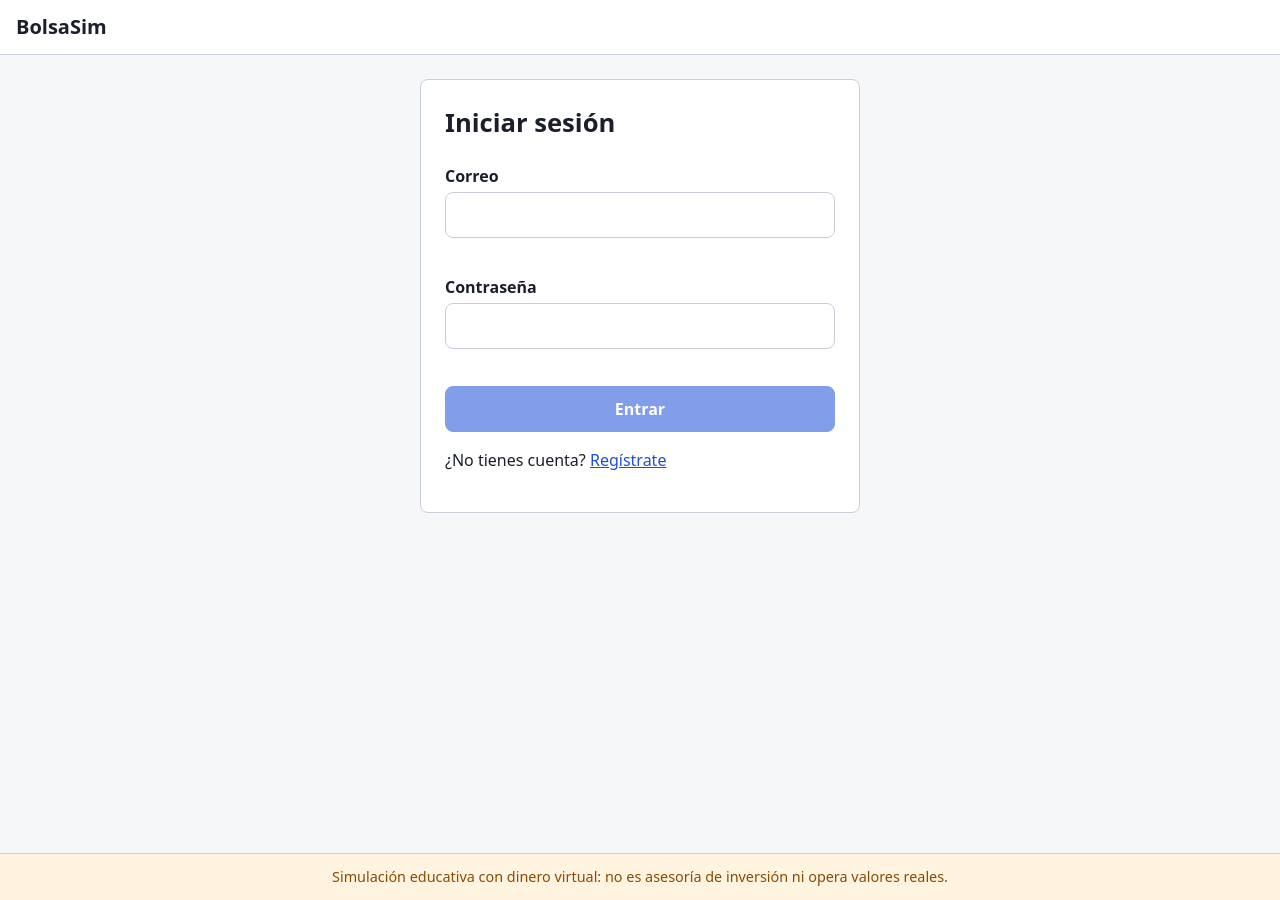
Test: Iniciar sesión (HU-02) › con credenciales incorrectas dice "Correo o contraseña incorrectos" y borra la contraseña
In the field labelled "Correo": point(640, 215) [445,192,835,238], type "ana@correo.co"
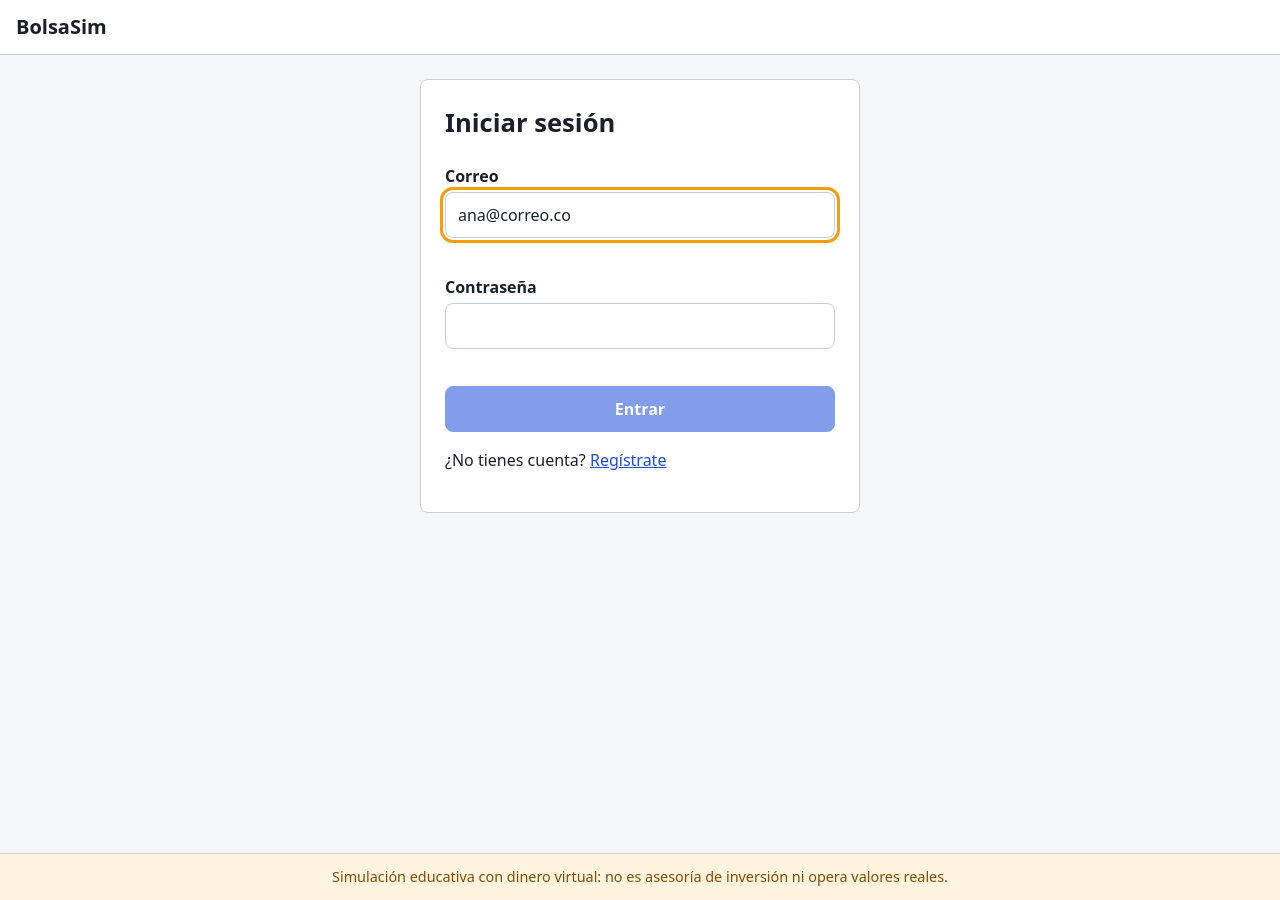
In the password field labelled "Contraseña": point(640, 326) [445,303,835,349], type "equivocada"
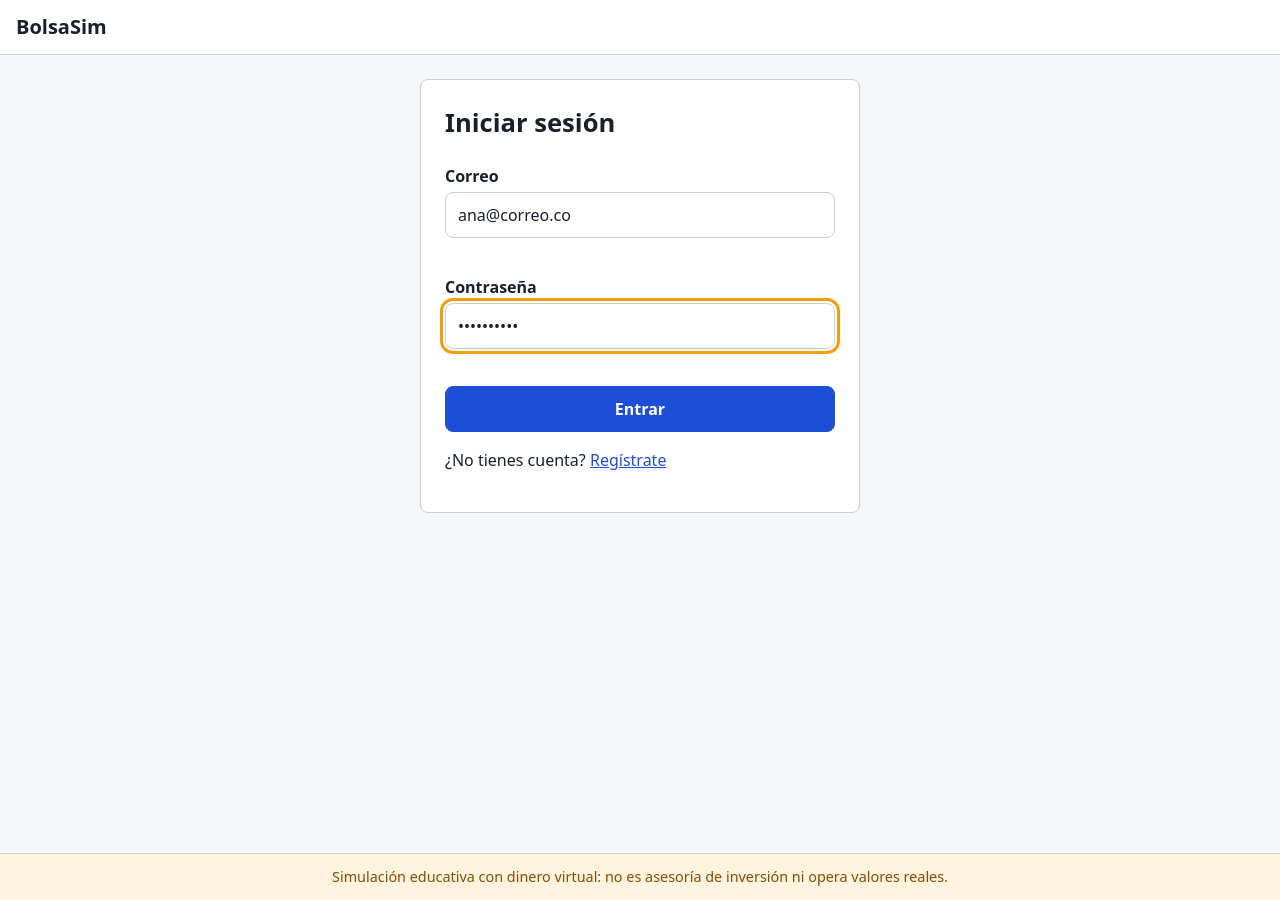
Click the button "Entrar": point(640, 409) [445,386,835,432]
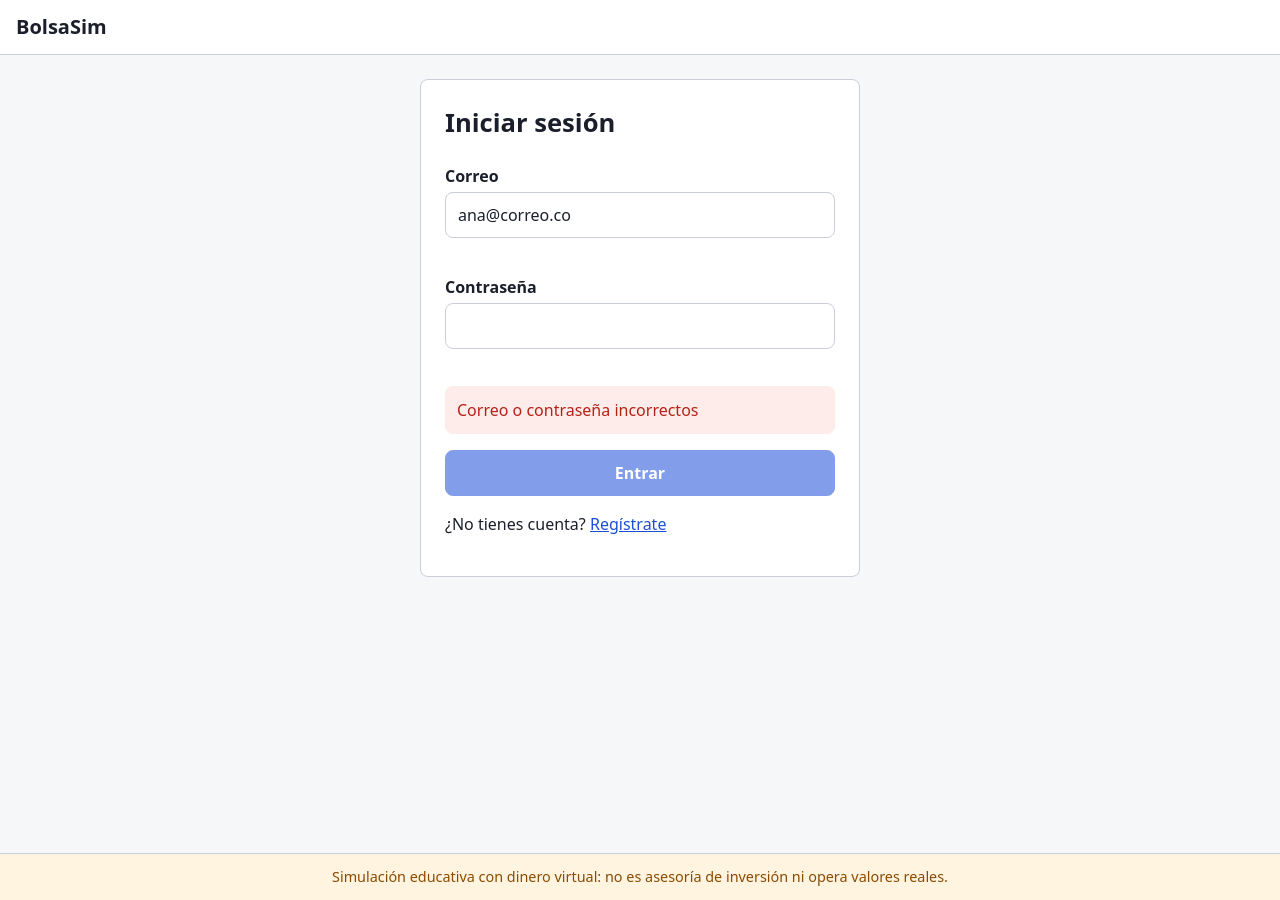
Check: the message reads "Correo o contraseña incorrectos", box [457,399,698,421]
Check: the password field labelled "Contraseña" is empty, box [445,303,835,349]
